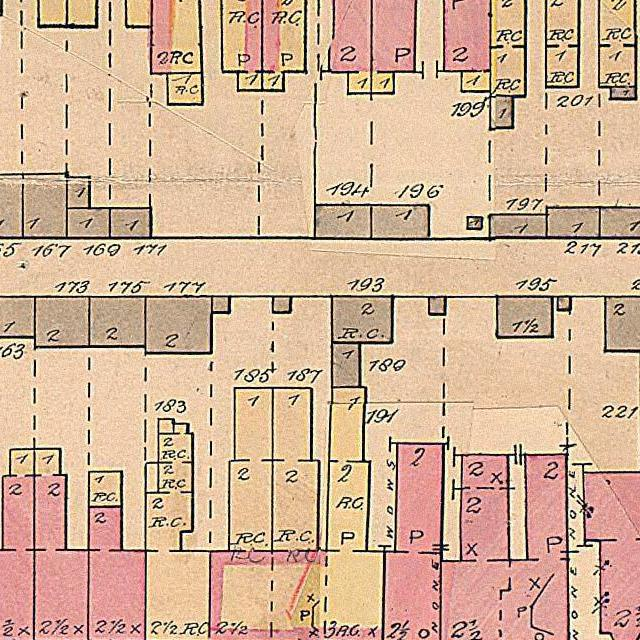building-footprints: (209, 387, 385, 640), (440, 454, 569, 640), (145, 423, 210, 640), (383, 443, 443, 640), (34, 449, 88, 640), (584, 472, 640, 640), (88, 507, 145, 640), (0, 449, 34, 640), (0, 174, 67, 238), (371, 0, 416, 94), (444, 0, 490, 91), (262, 0, 306, 91), (146, 297, 212, 354), (151, 0, 201, 74), (221, 0, 262, 90), (333, 0, 372, 93), (89, 297, 146, 346), (332, 296, 392, 342), (35, 297, 89, 347), (497, 296, 553, 337), (371, 205, 429, 239), (605, 297, 640, 351), (315, 205, 372, 238), (547, 207, 600, 238), (0, 297, 35, 337), (490, 215, 547, 237), (67, 209, 110, 238), (332, 343, 360, 387), (110, 208, 151, 238), (601, 207, 640, 238), (167, 73, 203, 105), (90, 472, 122, 506), (491, 96, 514, 127), (67, 177, 90, 208), (147, 463, 158, 493), (429, 297, 446, 315), (611, 87, 636, 99), (273, 297, 291, 312), (212, 297, 230, 312), (159, 418, 174, 433), (558, 297, 571, 310), (467, 217, 482, 228)
